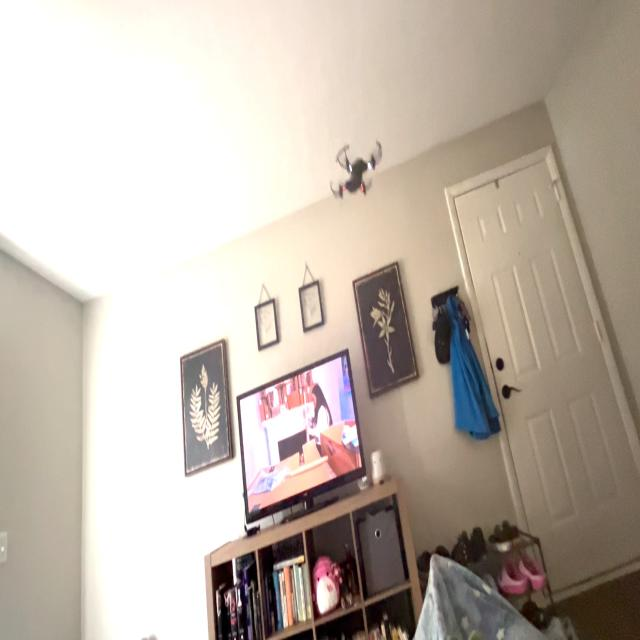drone: (324, 132, 384, 205)
